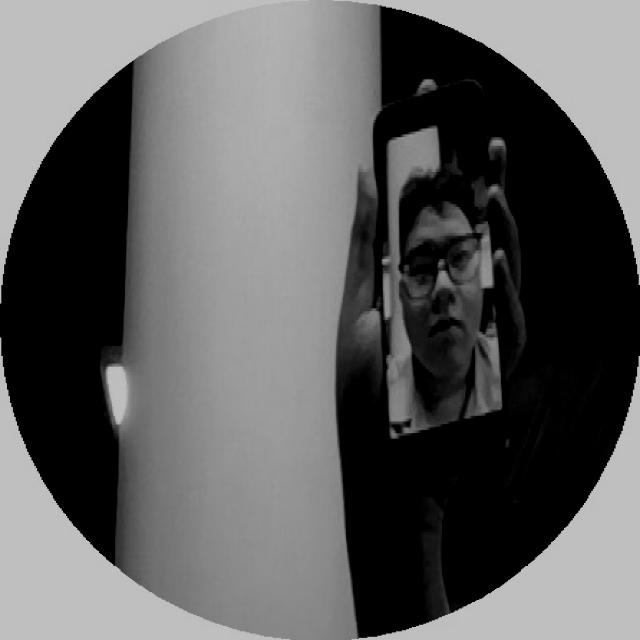fake: (342, 66, 533, 494), (364, 73, 517, 492)
